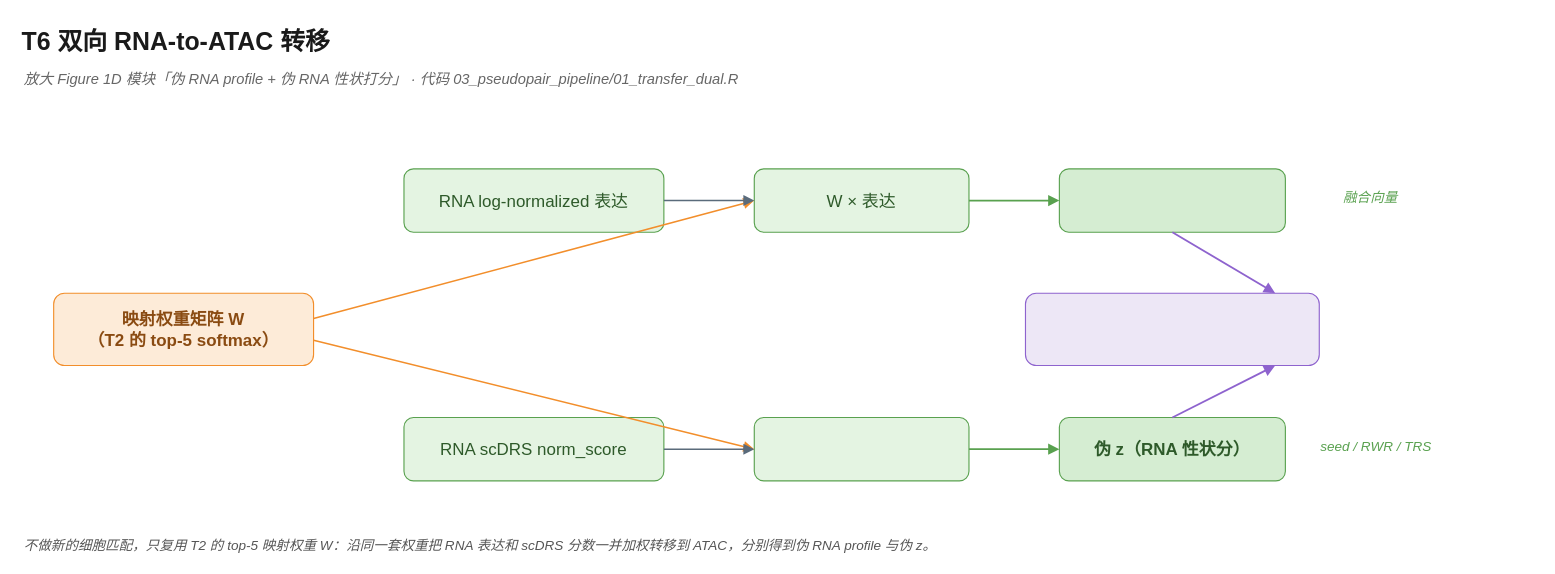
Image size: 1555x574. Some labels were removed from this diagram. Each missing label, with the centre of its shape:
"W × norm_score" belongs at [861,448].
"伪 RNA profile" belongs at [1171,200].
"每个 ATAC 细胞同时获得 RNA 表达与 trait 分数" belongs at [1171,329].
